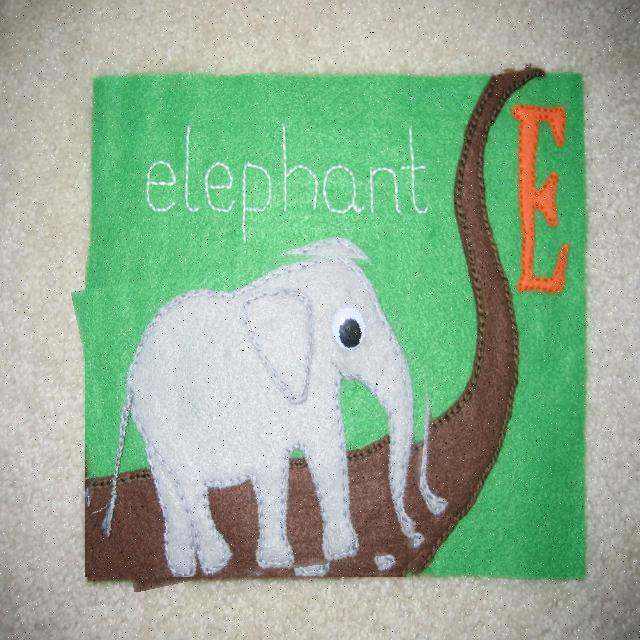elephant: (85, 240, 441, 577)
